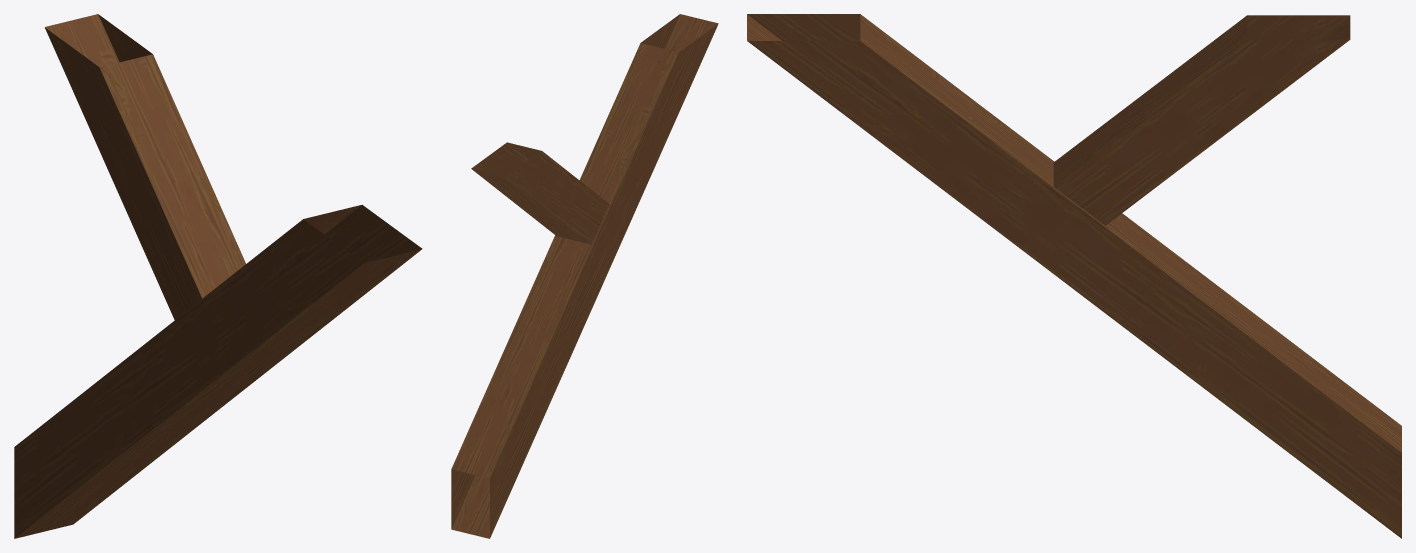
Rendered from support.glb.
3 renders of one model, left to right at view 1: azimuth 30°, elevation 25°; view 2: azimuth 150°, elevation 25°; view 3: azimuth 270°, elevation 25°, orthographic. The views are drawn at different scales.
Parts seen in each view (by area): view 1: Prop_Support; view 2: Prop_Support; view 3: Prop_Support.
Boxes of the visible parts, <box> form: Prop_Support: <box>14,14,422,538</box>; Prop_Support: <box>451,14,718,538</box>; Prop_Support: <box>747,14,1401,538</box>.
Size of the model in its own units: 0.1986 by 1.71 by 2.04.
Materials: 1 (1 with a texture image).
